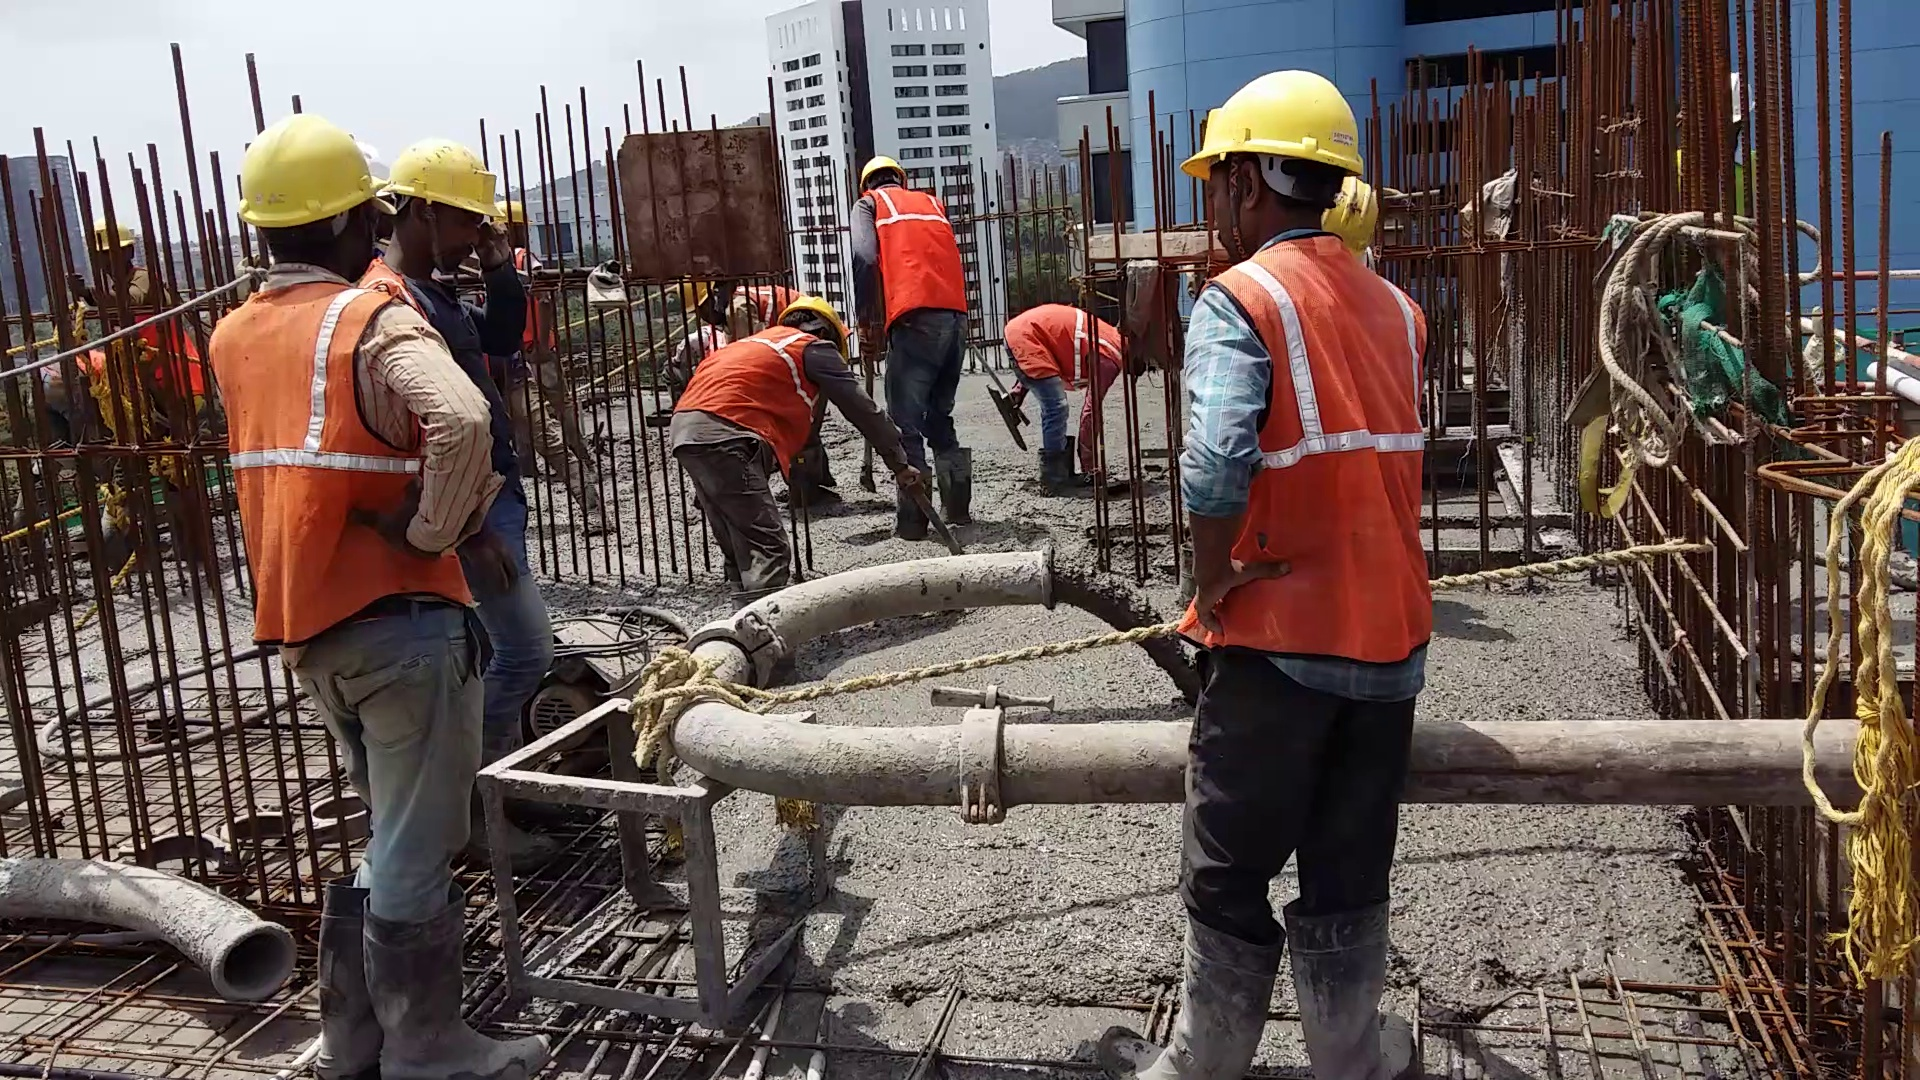SAFE: (1182, 63, 1425, 682), (212, 113, 405, 647), (674, 295, 853, 456), (862, 152, 972, 316)
